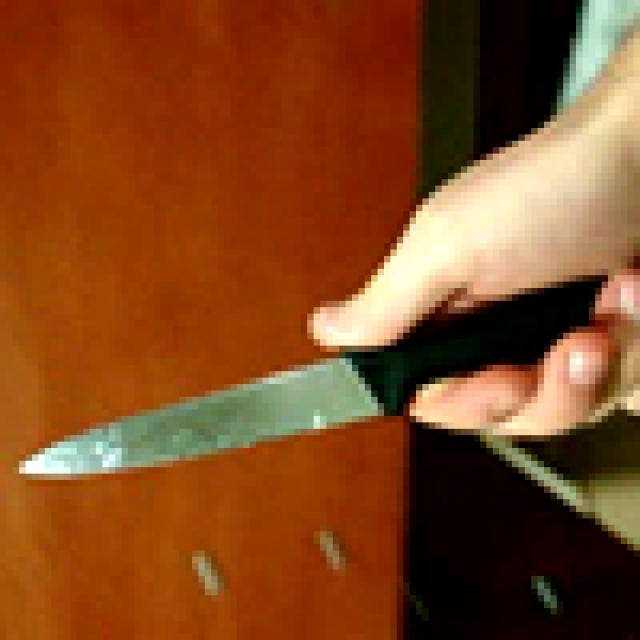Knife: (19, 269, 634, 486)
